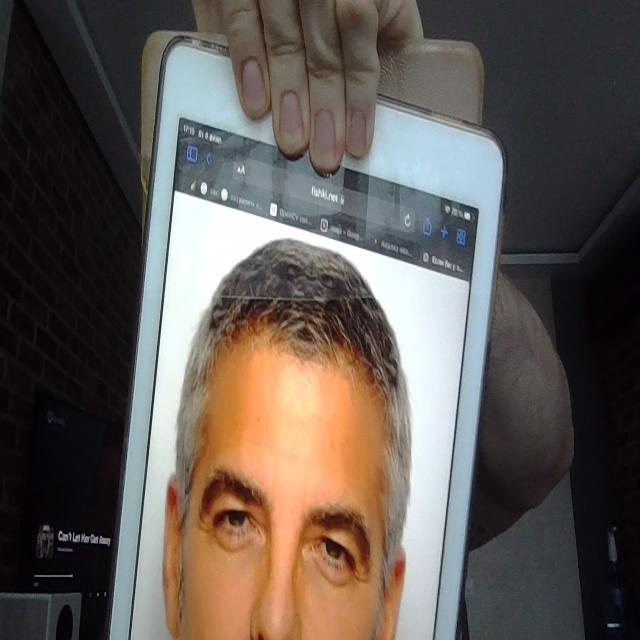device: (110, 28, 506, 640)
